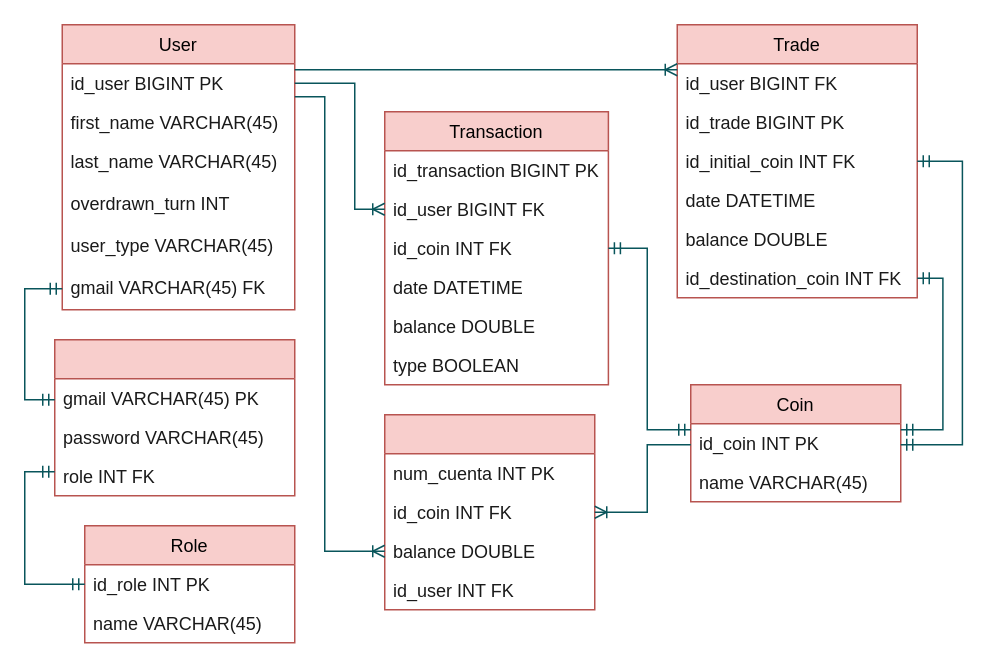
Some shapes in this 987 by 668 pixel diagram are drawn without their labels. The shapes that lost their labels are listed below. From the top down, each one's box as (x1, y1, x2, y2) in pixels, then its label:
(53, 338, 295, 496): Auth
(383, 413, 595, 610): User_Coin
